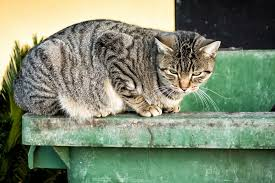cat: (6, 28, 233, 120)
